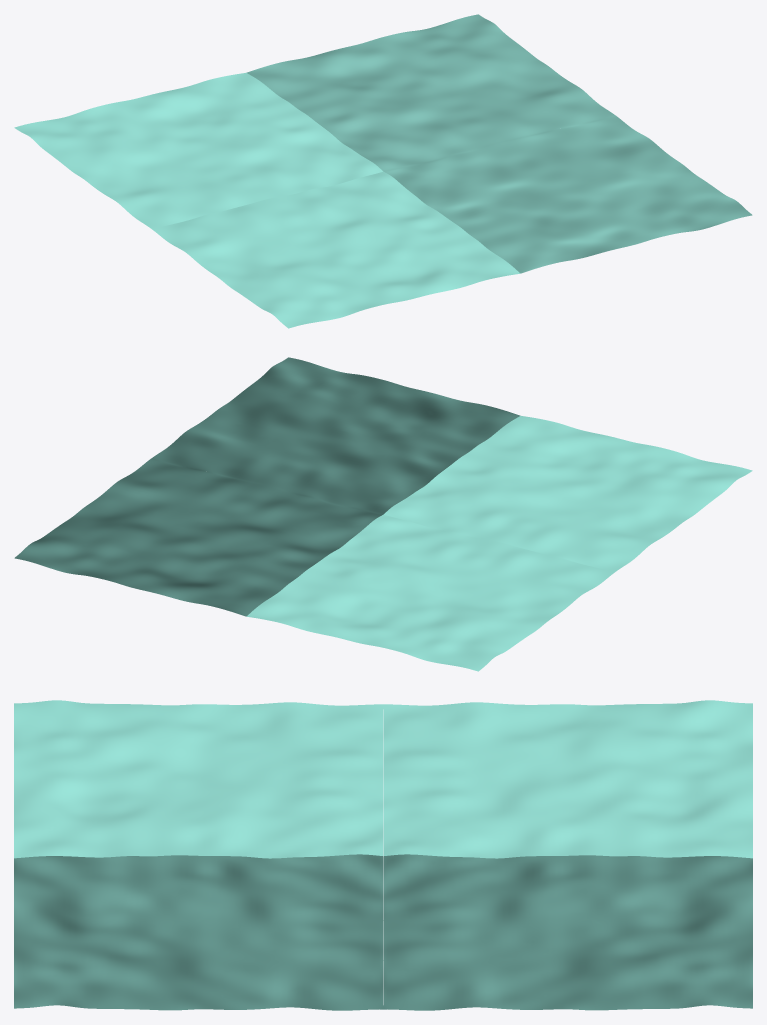
File: ground.glb
3 renders of one model, top to bottom at view 1: azimuth 30°, elevation 25°; view 2: azimuth 150°, elevation 25°; view 3: azimuth 270°, elevation 25°, orthographic. The views are drawn at different scales.
Visible parts, largest first — view 1: 1, 2, 3, 4; view 2: 3, 4, 1, 2; view 3: 2, 4, 1, 3.
Boxes of the visible parts, <box> form: 1: <box>246,14,615,171</box>; 2: <box>14,73,382,228</box>; 3: <box>384,115,752,273</box>; 4: <box>151,171,520,328</box>; 3: <box>151,357,520,514</box>; 4: <box>384,416,752,571</box>; 1: <box>14,458,382,616</box>; 2: <box>246,514,615,671</box>; 2: <box>383,700,752,858</box>; 4: <box>14,700,383,858</box>; 1: <box>383,854,752,1010</box>; 3: <box>14,854,383,1010</box>.
Size of the model in its own units: 554 by 7.27 by 567.
